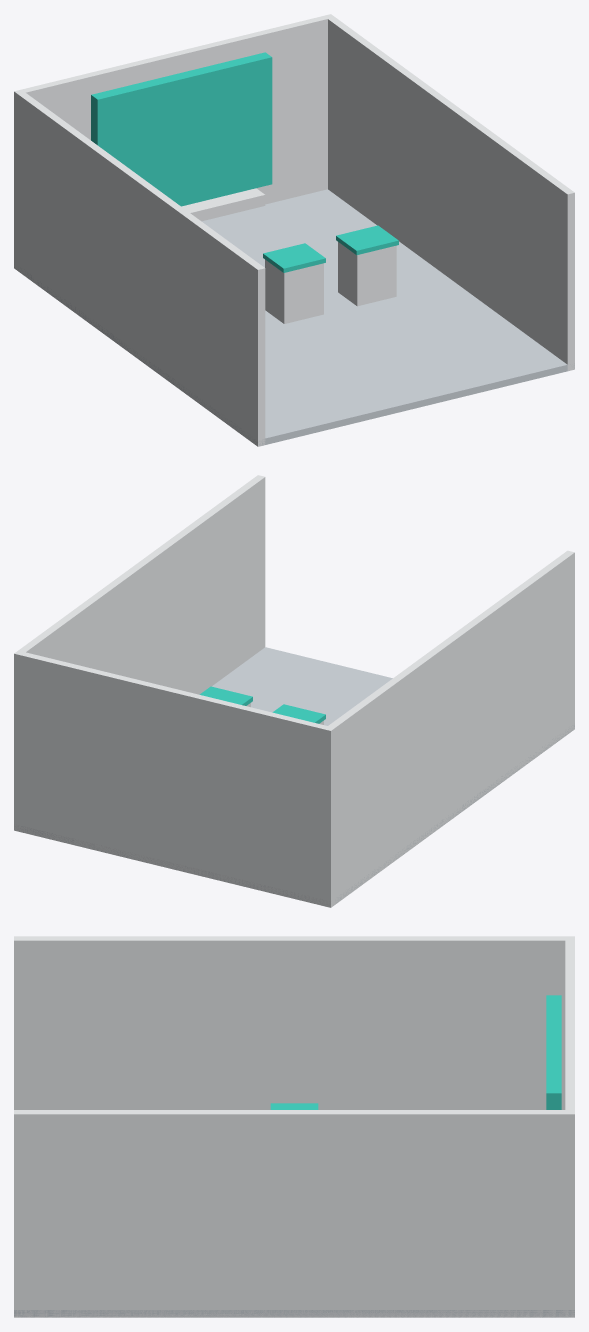
3 views of the same model, one above another, from view 1: azimuth 30°, elevation 25°; view 2: azimuth 150°, elevation 25°; view 3: azimuth 270°, elevation 25° (orthographic). The views are drawn at different scales.
Visible parts, largest first — view 1: Exhibition Booth Concept; view 2: Exhibition Booth Concept; view 3: Exhibition Booth Concept.
Part boxes in pixels (x1,y1,x2,y2): Exhibition Booth Concept: (14, 14, 574, 446); Exhibition Booth Concept: (14, 475, 574, 907); Exhibition Booth Concept: (14, 936, 574, 1317).
Size of the model in its own units: 6 by 3.2 by 8.
